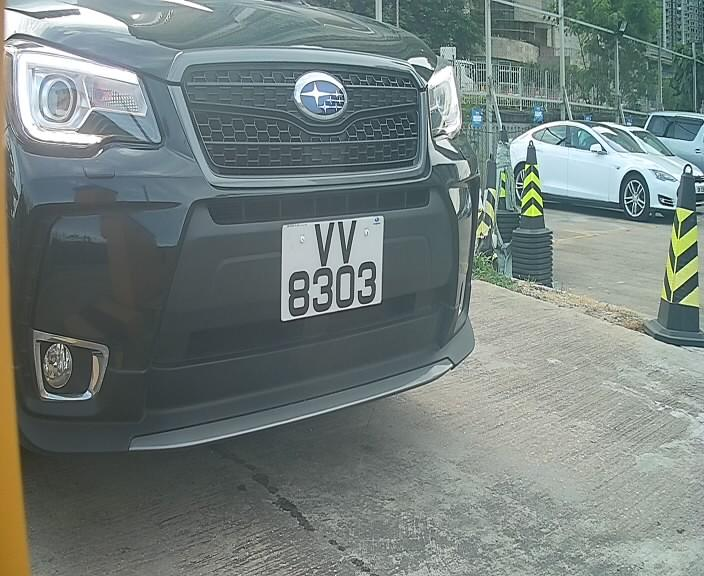Car: (1, 3, 551, 474)
License Plate: (274, 204, 390, 332)
